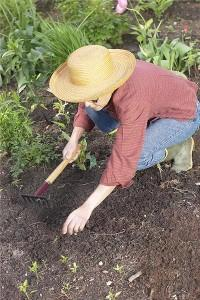person: (50, 44, 200, 238)
